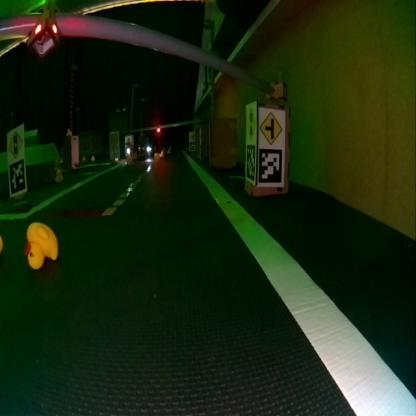Duckie: (26, 223, 58, 268), (56, 169, 62, 182), (65, 127, 70, 136)
Intersection sign: (259, 112, 283, 144)
QR code: (257, 148, 281, 186), (8, 159, 25, 196), (245, 146, 254, 182)
Traffic light: (27, 16, 58, 54), (155, 126, 159, 134)
